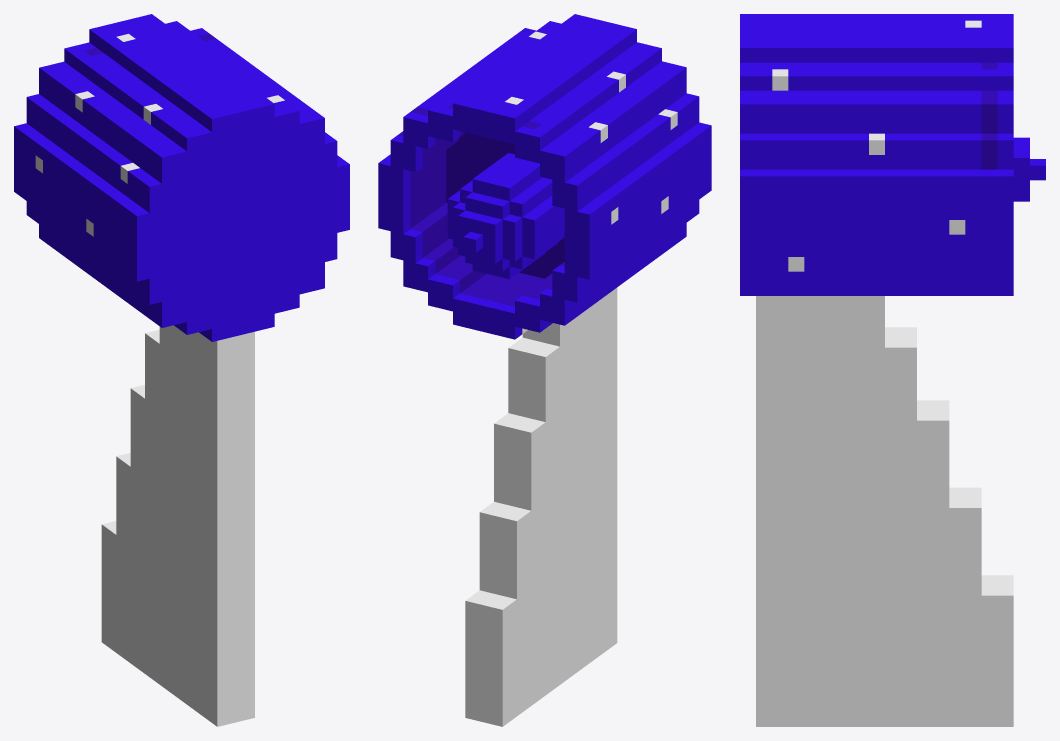
Rendered from arm.FBX.
3 renders of one model, left to right at view 1: azimuth 30°, elevation 25°; view 2: azimuth 150°, elevation 25°; view 3: azimuth 270°, elevation 25°, orthographic. The views are drawn at different scales.
Visible parts, largest first — view 1: default; view 2: default; view 3: default.
Boxes of the visible parts, x1,y1,x2,y2 form: default: (14, 14, 349, 726); default: (378, 14, 711, 726); default: (740, 14, 1045, 726).
Bounding box in the file's own units: 17 × 19 × 47.
1 material, 1 textured.
